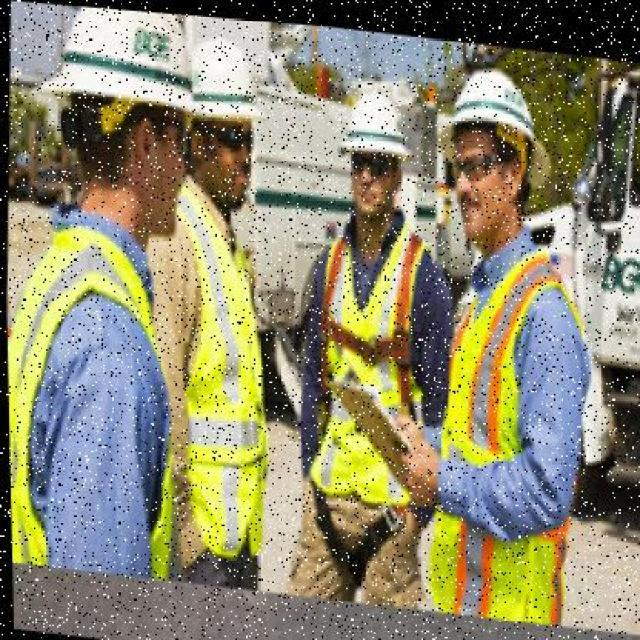helmet: (19, 2, 207, 124), (432, 48, 559, 184), (186, 20, 271, 127), (328, 68, 420, 166)
vest: (3, 210, 191, 566), (439, 239, 596, 607), (301, 199, 441, 526), (170, 175, 280, 581)
